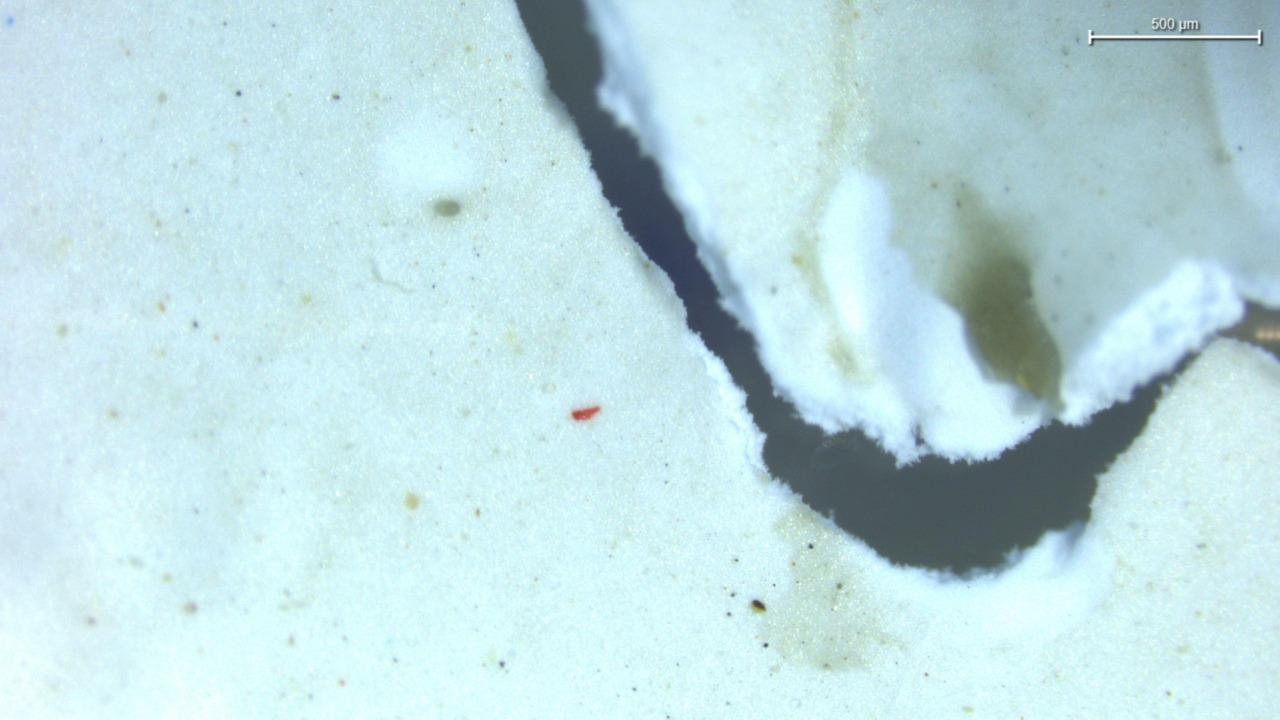microplastic_fragment: (571, 406, 600, 421)
